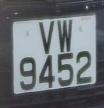2: (74, 48, 95, 87)
4: (36, 52, 59, 93)
5: (55, 51, 78, 90)
9: (16, 50, 40, 95)
V: (35, 16, 59, 55)
W: (56, 16, 74, 55)
